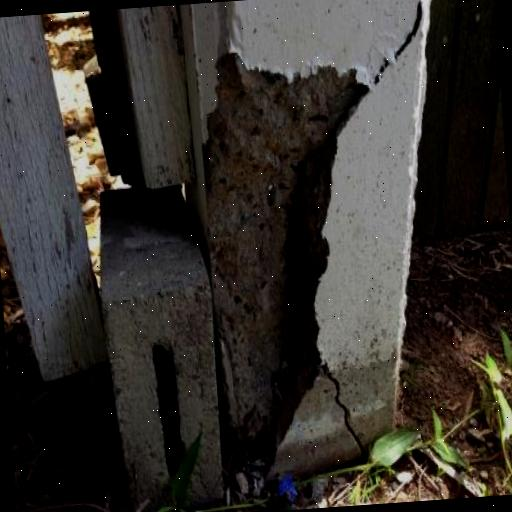spalling: (203, 56, 372, 473), (370, 0, 430, 89), (324, 360, 376, 461)
